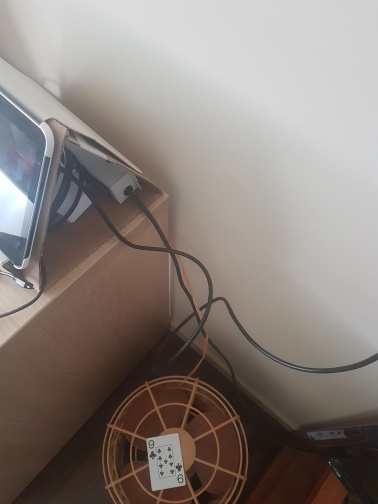nine: (145, 433, 186, 492)
